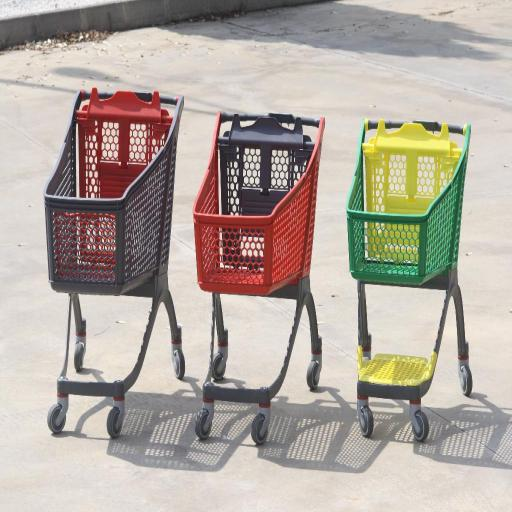shopping_cart: (42, 85, 186, 443), (190, 108, 325, 448), (344, 118, 472, 442)
